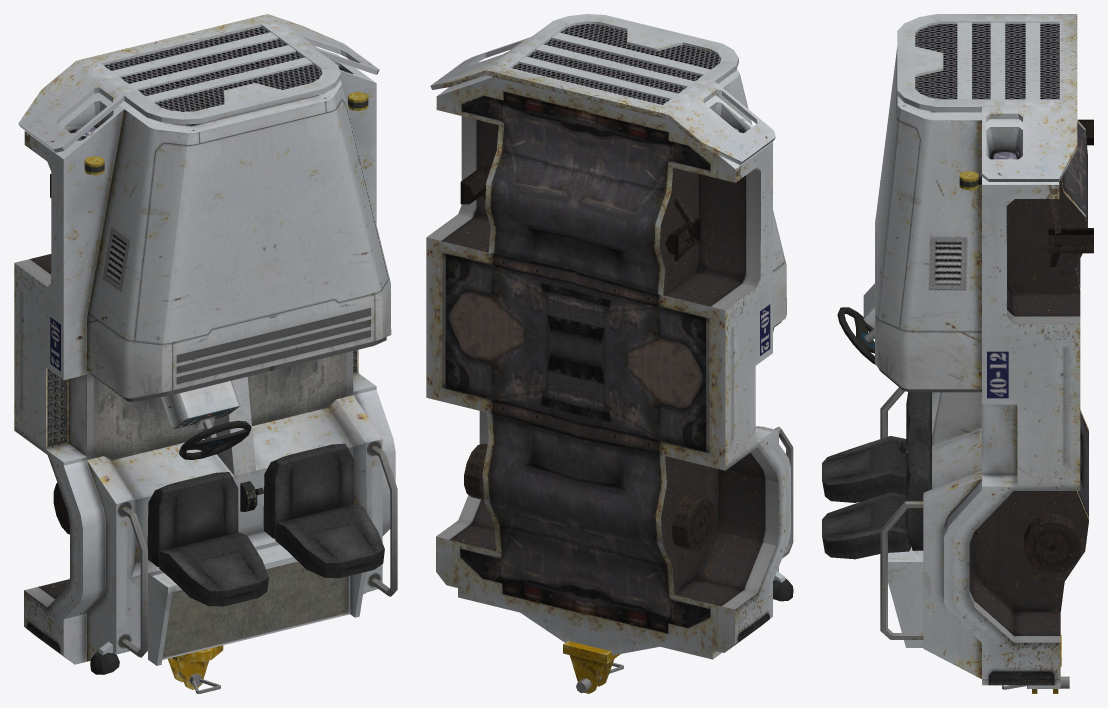
File: tractor.obj
The picture shows the model from 3 angles, left to right: view 1: azimuth 30°, elevation 25°; view 2: azimuth 150°, elevation 25°; view 3: azimuth 270°, elevation 25°; orthographic projection. The views are drawn at different scales.
Parts seen in each view (by area): view 1: tractor.001; view 2: tractor.001; view 3: tractor.001.
Part boxes in pixels (x1,y1,x2,y2): tractor.001: (14, 14, 397, 693); tractor.001: (426, 14, 793, 693); tractor.001: (822, 14, 1093, 693).
Bounding box in the file's own units: 2.11 × 3.94 × 1.53.
1 material, 1 textured.
